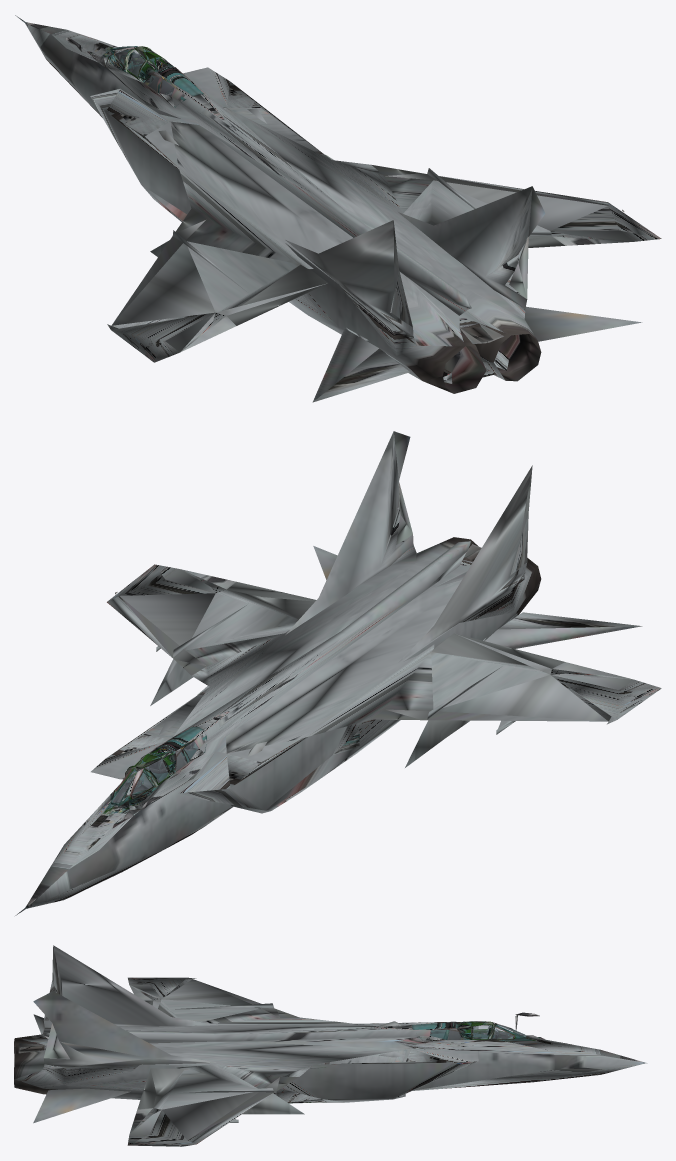
Rendered from pk_e_mig31.glb.
3 renders of one model, top to bottom at view 1: azimuth 30°, elevation 25°; view 2: azimuth 150°, elevation 25°; view 3: azimuth 270°, elevation 25°, orthographic. The views are drawn at different scales.
Parts seen in each view (by area): view 1: body|Body, body|Cockpit, body|glass; view 2: body|Body, body|Cockpit, body|glass; view 3: body|Body, body|Cockpit, body|glass.
Boxes of the visible parts, box(x1,y1,x2,y2) form: body|Body: box(15, 15, 661, 402); body|Cockpit: box(110, 46, 203, 107); body|glass: box(113, 46, 174, 95); body|Body: box(15, 431, 661, 915); body|Cockpit: box(110, 726, 206, 806); body|glass: box(111, 741, 198, 803); body|Body: box(14, 945, 647, 1146); body|Cockpit: box(412, 1021, 526, 1040); body|glass: box(430, 1024, 524, 1039).
Bounding box in the file's own units: 13.81 × 4.62 × 22.52.
4 materials, 3 textured.
